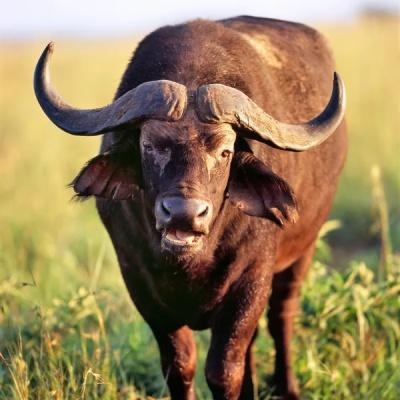buffalo: (33, 16, 350, 400)
